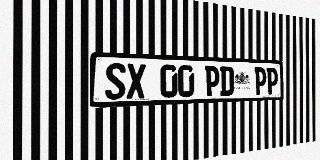0: (160, 64, 177, 98), (178, 65, 194, 97)
D: (220, 66, 234, 96)
P: (205, 66, 219, 96), (254, 67, 266, 95), (267, 67, 278, 94)
S: (105, 63, 126, 100)
X: (126, 63, 146, 99)
